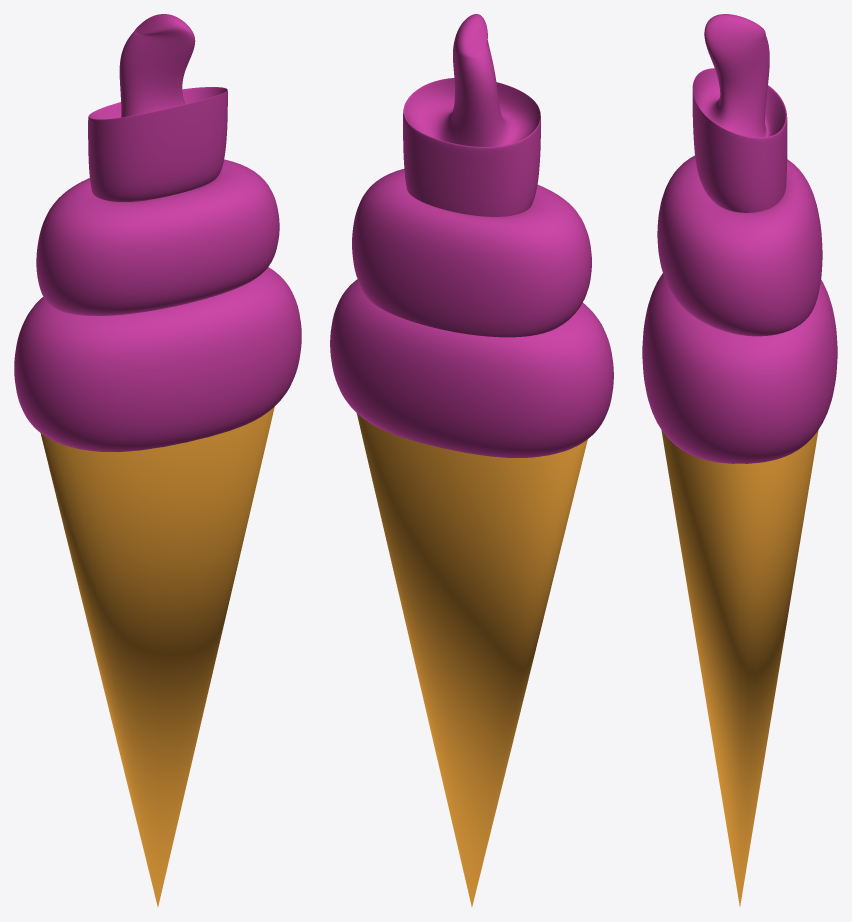
Rendered from icecream.fbx.
3 renders of one model, left to right at view 1: azimuth 30°, elevation 25°; view 2: azimuth 150°, elevation 25°; view 3: azimuth 270°, elevation 25°, orthographic.
Parts seen in each view (by area): view 1: Cube, Cone; view 2: Cube, Cone; view 3: Cube, Cone.
Part boxes in pixels (box(x1,y1,x2,y2)): Cube: box(14, 14, 301, 452); Cone: box(40, 407, 274, 906); Cube: box(330, 14, 613, 457); Cone: box(356, 413, 587, 906); Cube: box(642, 14, 837, 463); Cone: box(661, 430, 818, 906).
Size of the model in its own units: 281 by 901 by 178.
